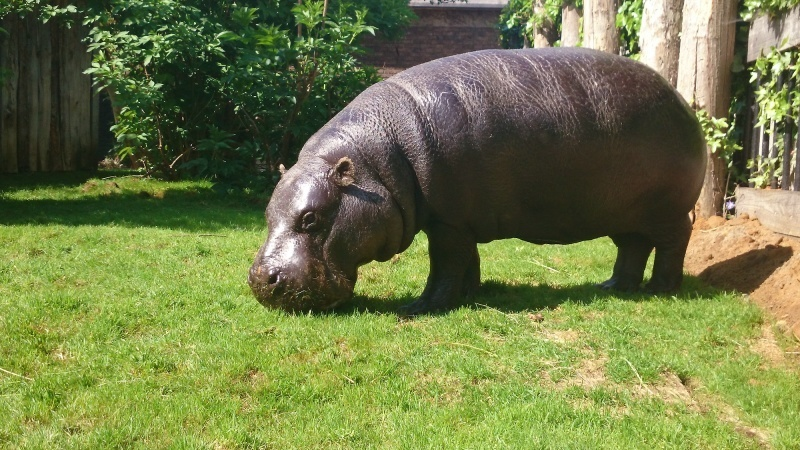hipopotamo: (246, 28, 725, 319)
